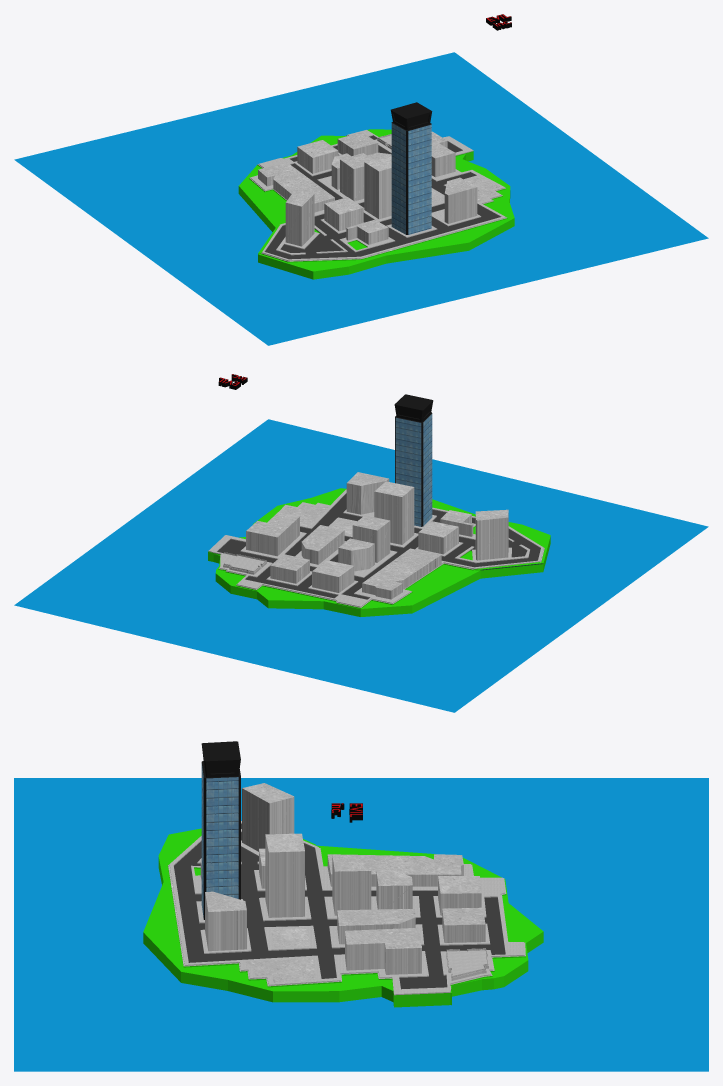
File: world.glb
3 views of the same model, one above another, from view 1: azimuth 30°, elevation 25°; view 2: azimuth 150°, elevation 25°; view 3: azimuth 270°, elevation 25° (orthographic). The views are drawn at different scales.
Visible parts, largest first — view 1: Plane.001, Plane; view 2: Plane.001, Plane; view 3: Plane.001, Plane.
Boxes of the visible parts, x1,y1,x2,y2 form: Plane.001: [14, 52, 708, 345]; Plane: [238, 102, 514, 279]; Plane.001: [14, 419, 708, 712]; Plane: [208, 394, 550, 616]; Plane.001: [14, 778, 708, 1071]; Plane: [143, 741, 543, 1007].
Bounding box in the file's own units: 38.39 × 12.82 × 38.39.
Materials: 9 (3 with a texture image).
